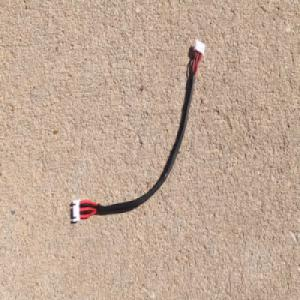Wire: (70, 37, 206, 226)
